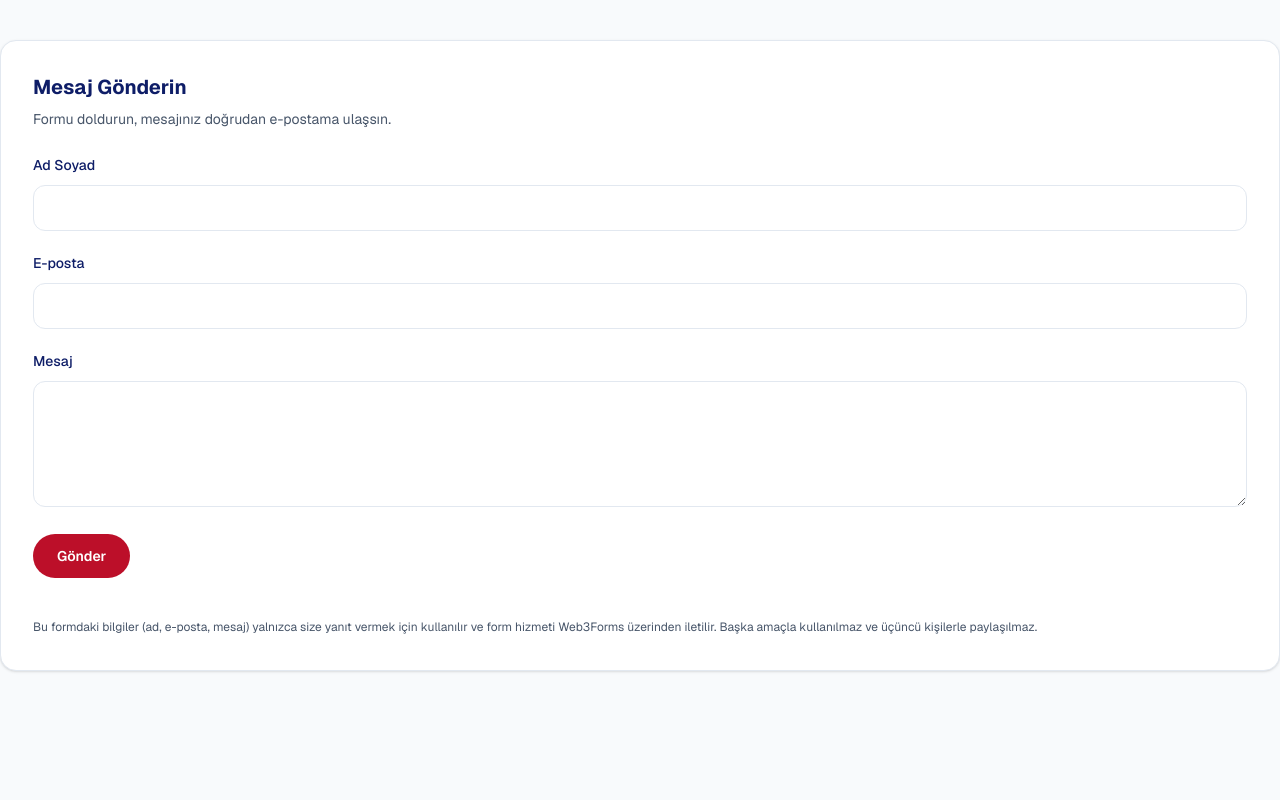
it: ContactForm › shows an error message when the service rejects the message
The image size is (1280, 800).
In the field labelled "Ad Soyad": [640, 208] box [33,185,1247,231], type "Test Kişi"
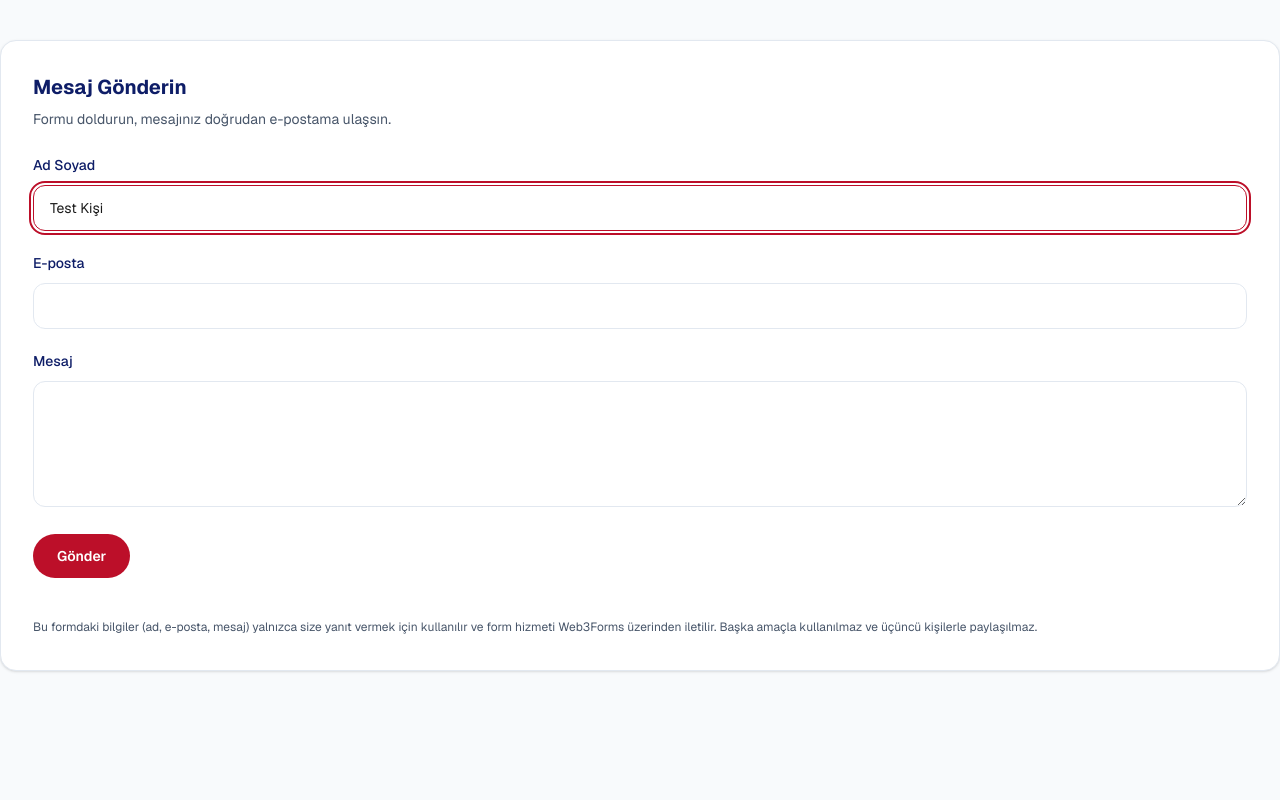
In the field labelled "E-posta": [640, 306] box [33,283,1247,329], type "test@example.com"
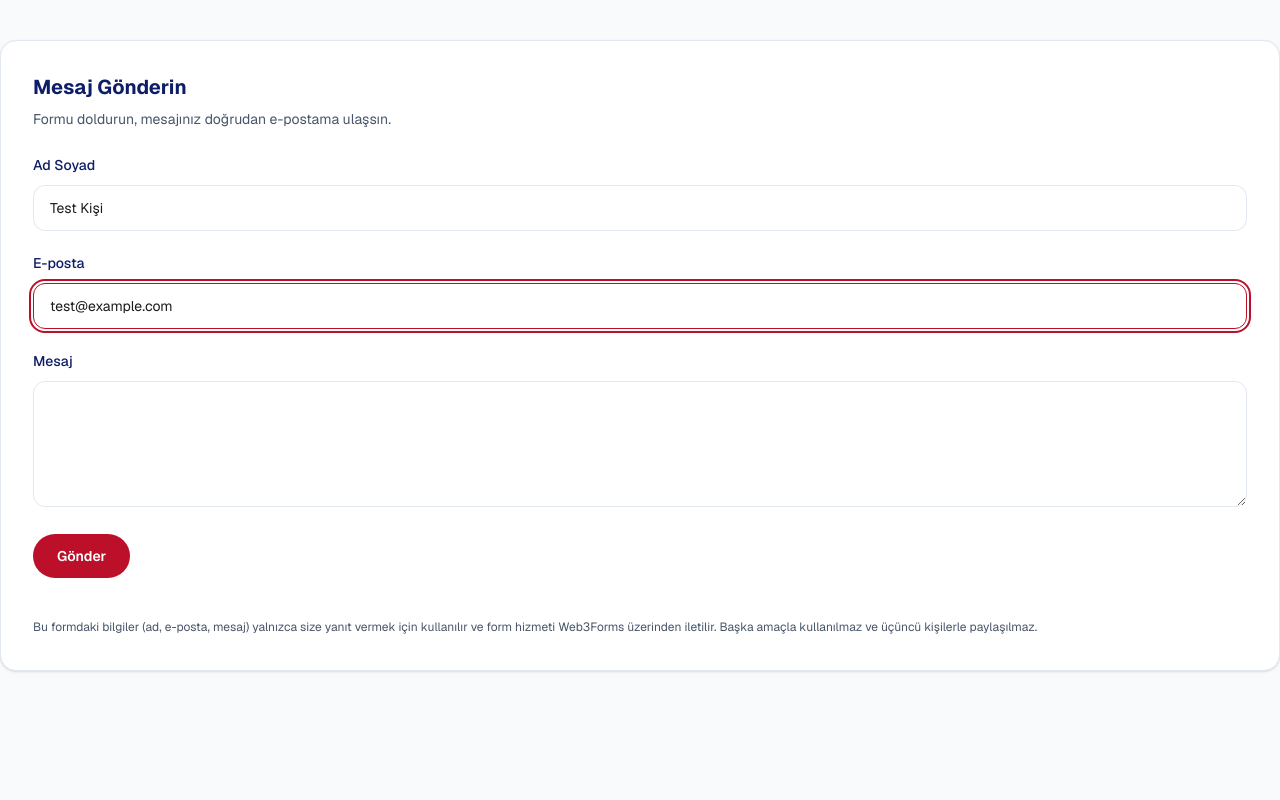
In the text box labelled "Mesaj": [640, 444] box [33,381,1247,507], type "Merhaba, bu bir deneme mesajıdır."
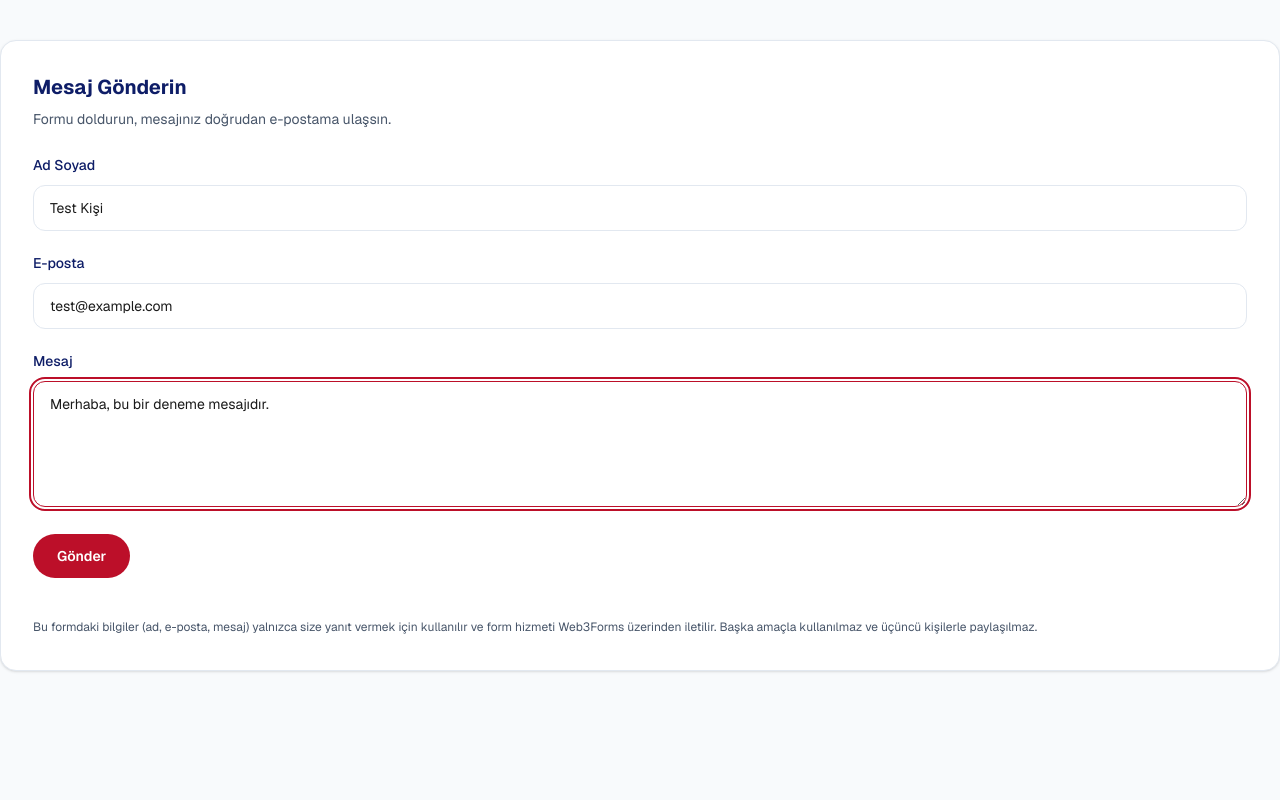
Click the button "Gönder": [82, 556] box [33,534,130,578]
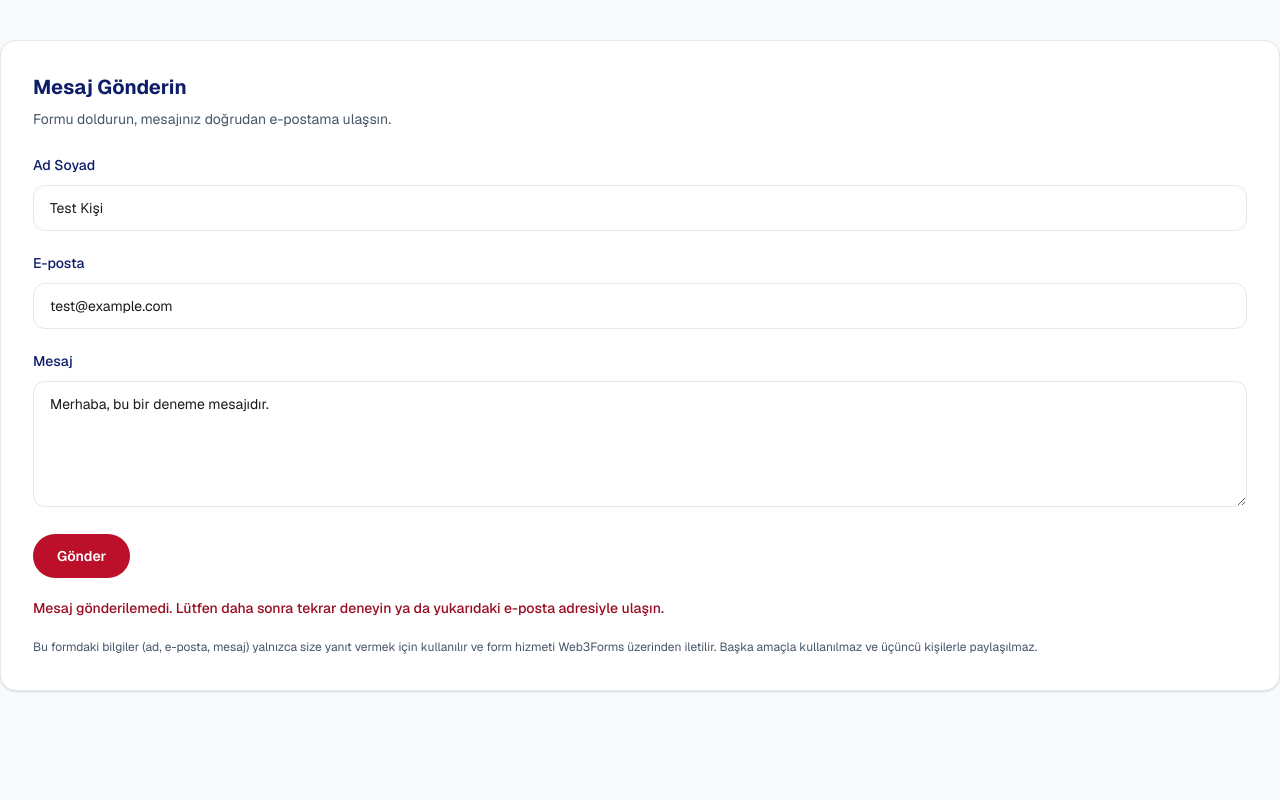
Check: the text "Mesaj gönderilemedi" is shown, box [33,599,664,617]
